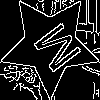M: (25, 20, 83, 81)
